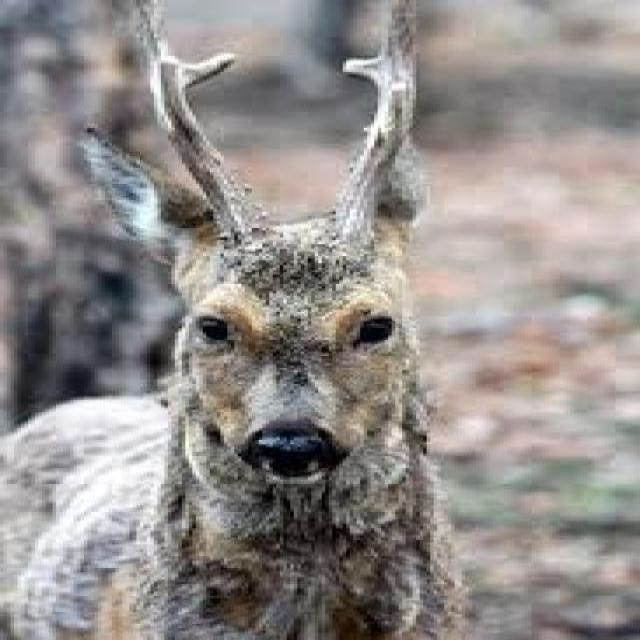deer: (70, 0, 484, 640)
